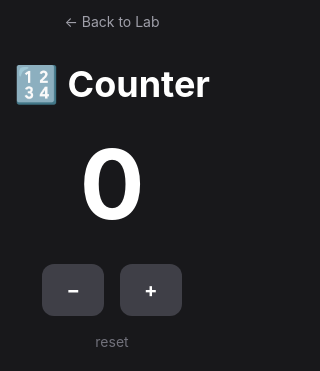
CounterApp › resets the count to zero after incrementing
Click the button with test id "increment".
click(151, 290)  # box [120,264,182,316]
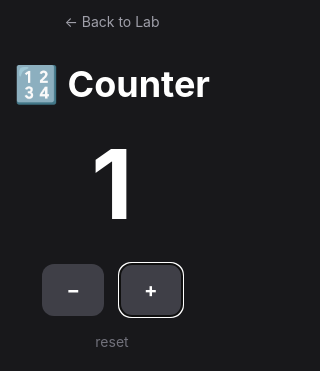
Click the button with test id "increment".
click(151, 290)  # box [120,264,182,316]
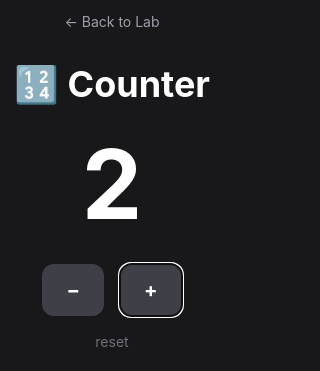
Click the button with test id "reset".
click(112, 342)  # box [95,332,129,352]
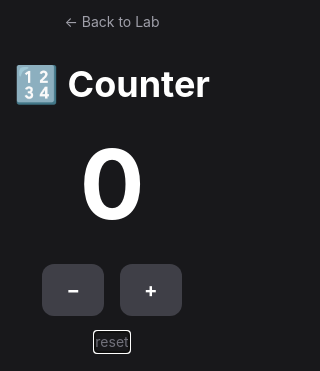
expect the text "0" is shown: met, box [80,126,144,242]
